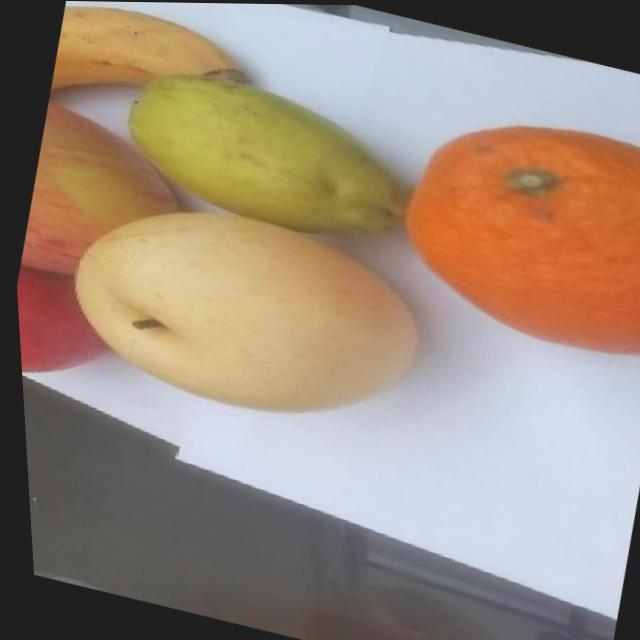Apple: (10, 101, 199, 301), (12, 263, 123, 395)
Banana: (45, 1, 255, 135)
Orange: (376, 89, 640, 366)
